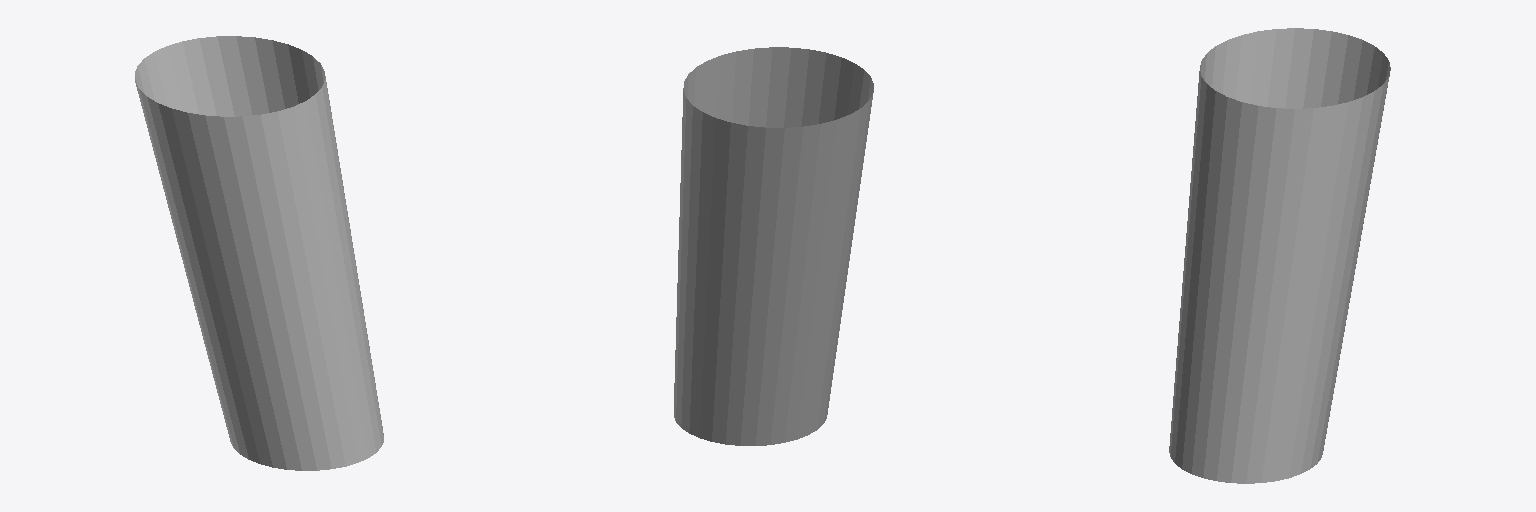
File: vaso2.obj
3 views of the same model, side by side, from view 1: azimuth 30°, elevation 25°; view 2: azimuth 150°, elevation 25°; view 3: azimuth 270°, elevation 25° (orthographic).
Bounding box in the file's own units: 0.1643 × 0.2769 × 0.156.